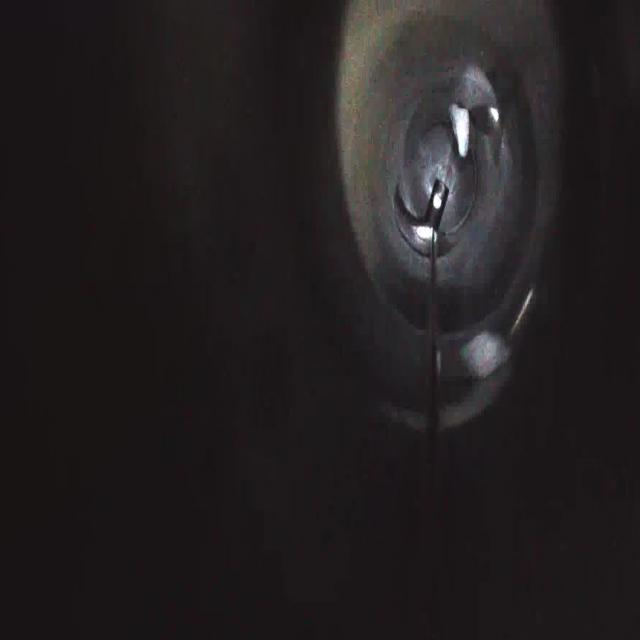impurity: (444, 96, 474, 161)
